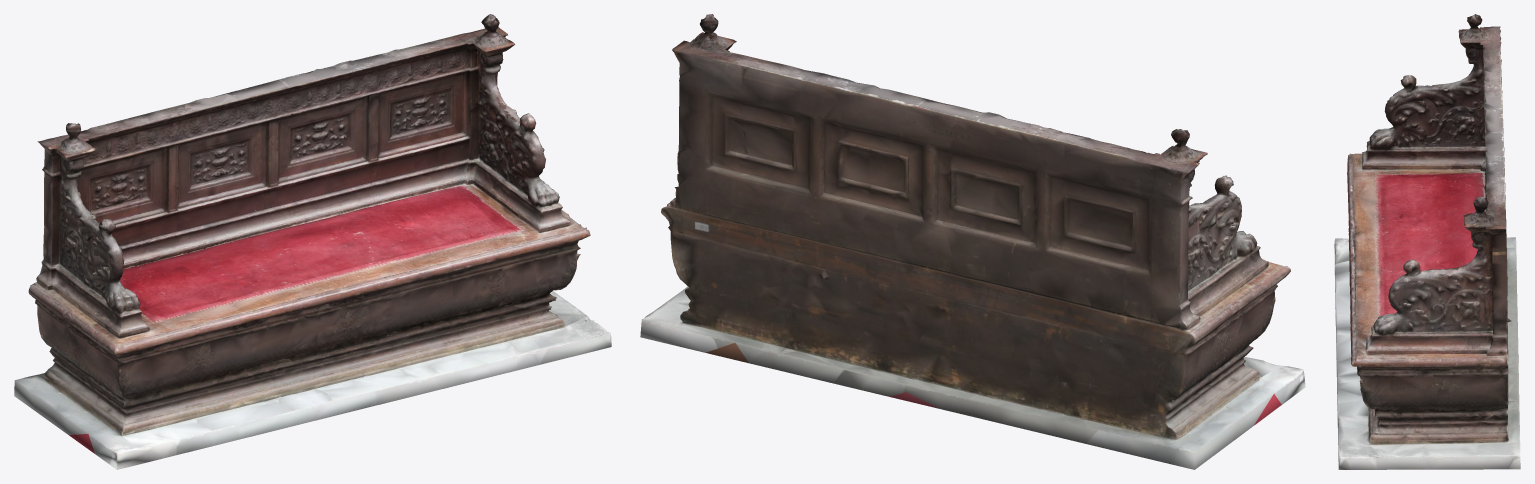
The model's file is 18th_century_bench_from_hungarian_opera.glb.
3 renders of one model, left to right at view 1: azimuth 30°, elevation 25°; view 2: azimuth 150°, elevation 25°; view 3: azimuth 270°, elevation 25°, orthographic. The views are drawn at different scales.
Parts seen in each view (by area): view 1: Object_2; view 2: Object_2; view 3: Object_2.
Part boxes in pixels (box(x1,y1,x2,y2)): Object_2: box(14, 14, 611, 469); Object_2: box(640, 14, 1305, 469); Object_2: box(1334, 14, 1520, 469).
Bounding box in the file's own units: 10.45 × 5.69 × 3.77.
Materials: 1 (1 with a texture image).
